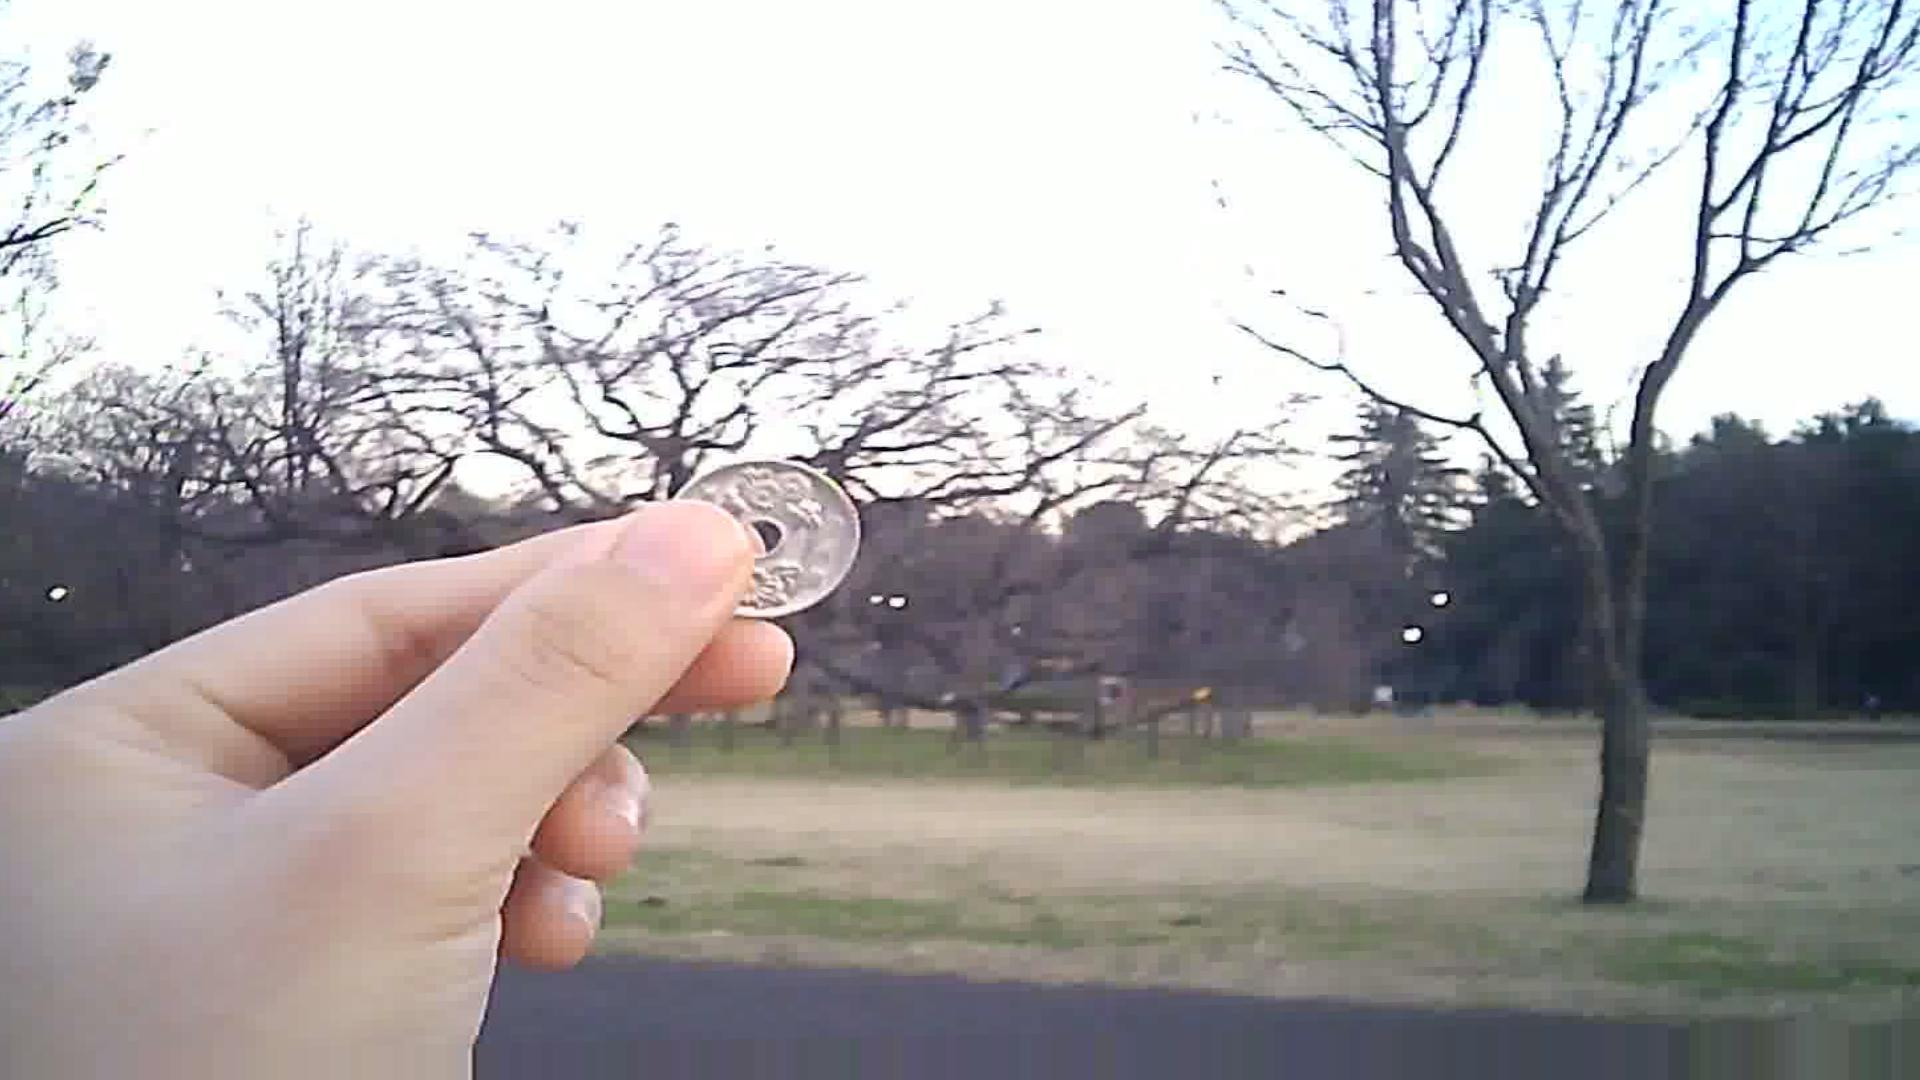50 Yen: (665, 451, 866, 622)
